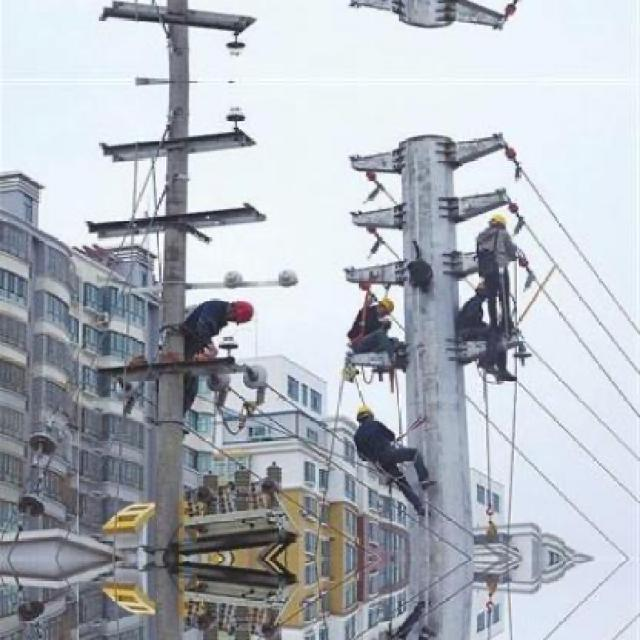helmet: (220, 300, 260, 326), (351, 406, 377, 429), (484, 208, 508, 232), (372, 294, 397, 315)
